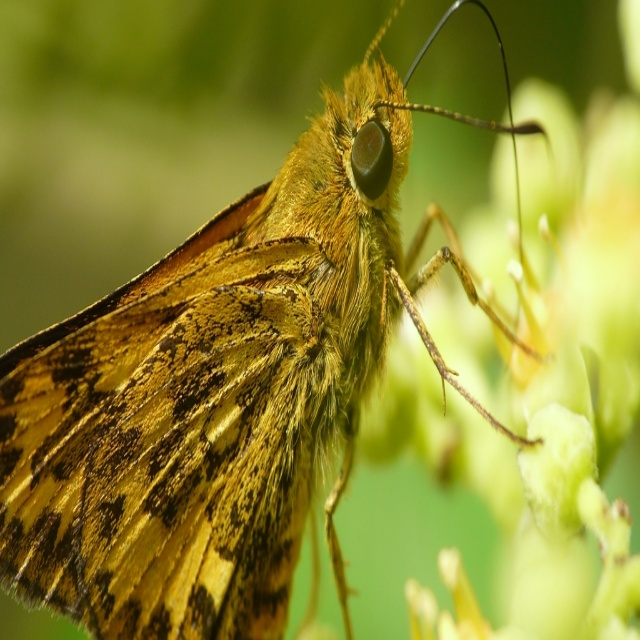Butterfly: (8, 0, 542, 635)
